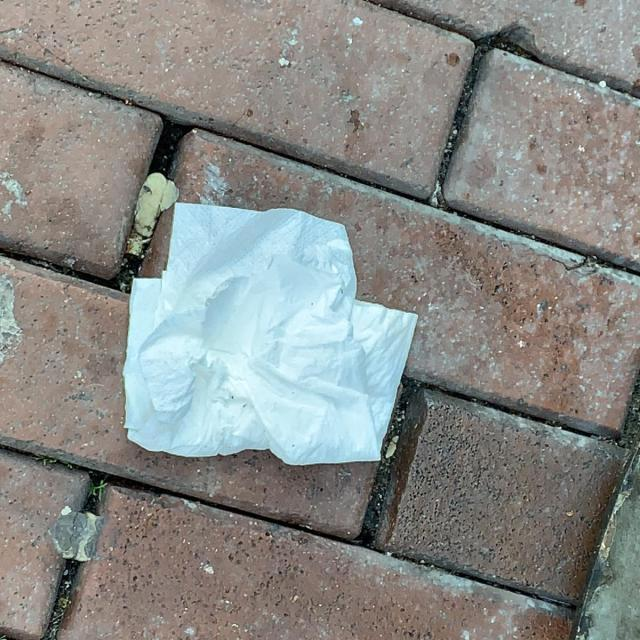Paper: (121, 202, 420, 468)
